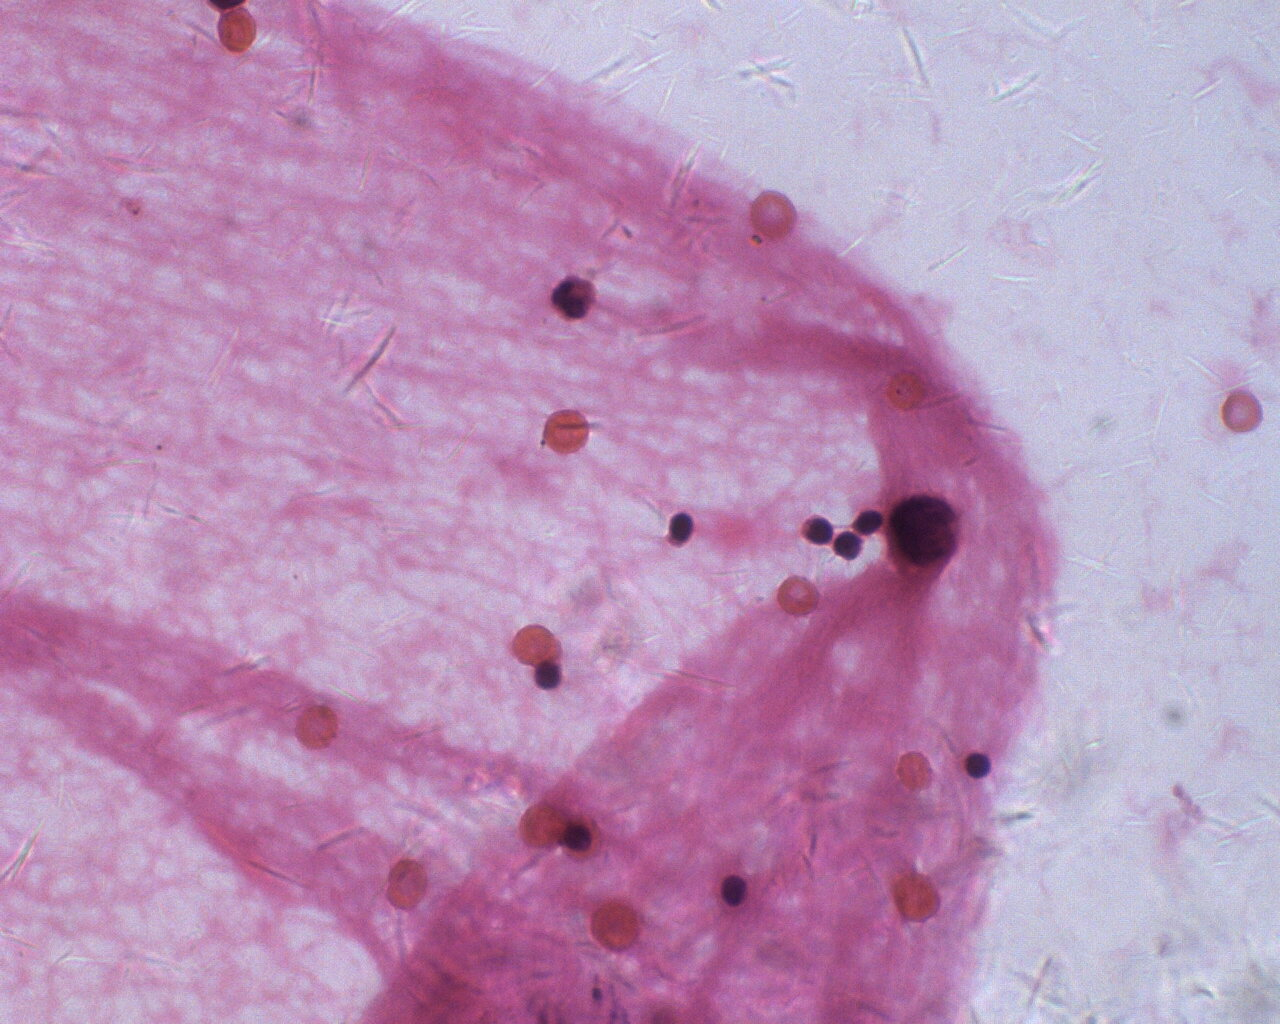ab: (887, 486, 963, 580)
lymph: (657, 506, 700, 549), (716, 871, 754, 911), (531, 656, 568, 695), (799, 509, 835, 550), (960, 745, 997, 781)
